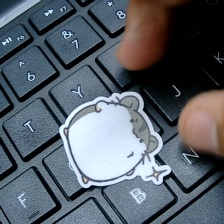mouse: (56, 88, 175, 189)
